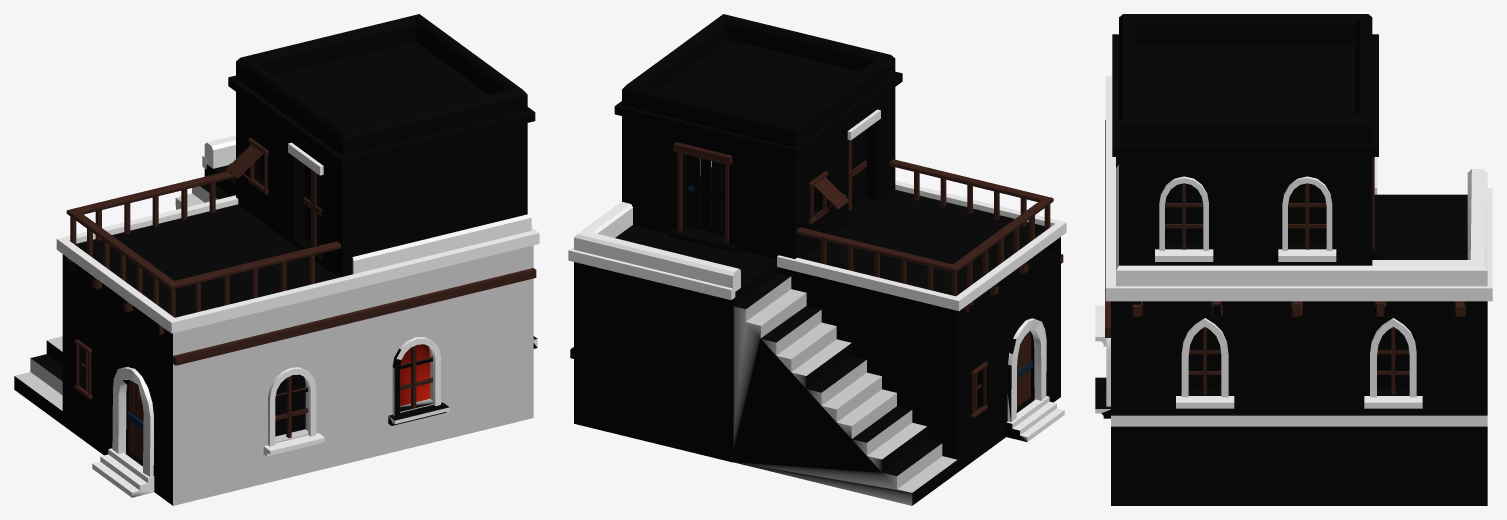
File: civilian_house_31_g.FBX
3 views of the same model, side by side, from view 1: azimuth 30°, elevation 25°; view 2: azimuth 150°, elevation 25°; view 3: azimuth 270°, elevation 25° (orthographic). The views are drawn at different scales.
Parts seen in each view (by area): view 1: civilian_house_31_g; view 2: civilian_house_31_g; view 3: civilian_house_31_g.
Boxes of the visible parts, x1=… form: civilian_house_31_g: x1=14, y1=14, x2=539, y2=505; civilian_house_31_g: x1=568, y1=14, x2=1066, y2=505; civilian_house_31_g: x1=1095, y1=14, x2=1492, y2=505.
Size of the model in its own units: 1146 by 904 by 844.
